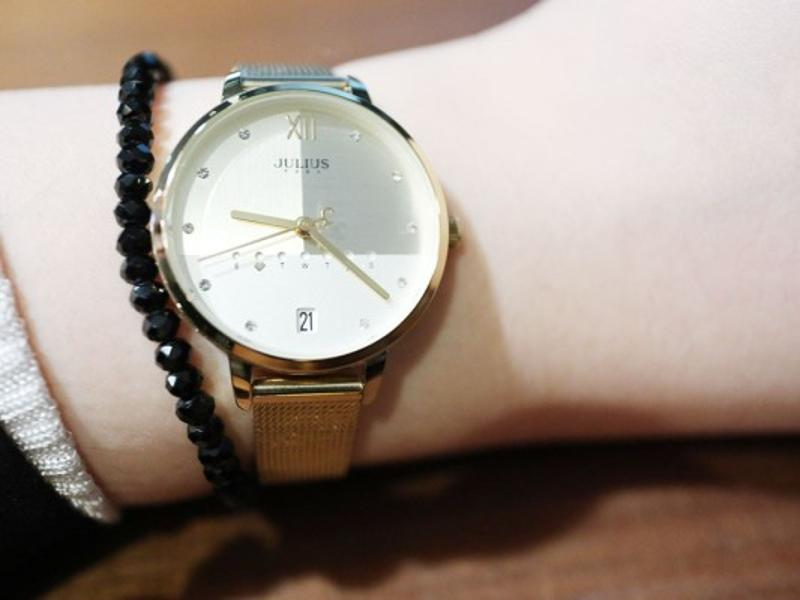watch: (152, 60, 465, 487)
